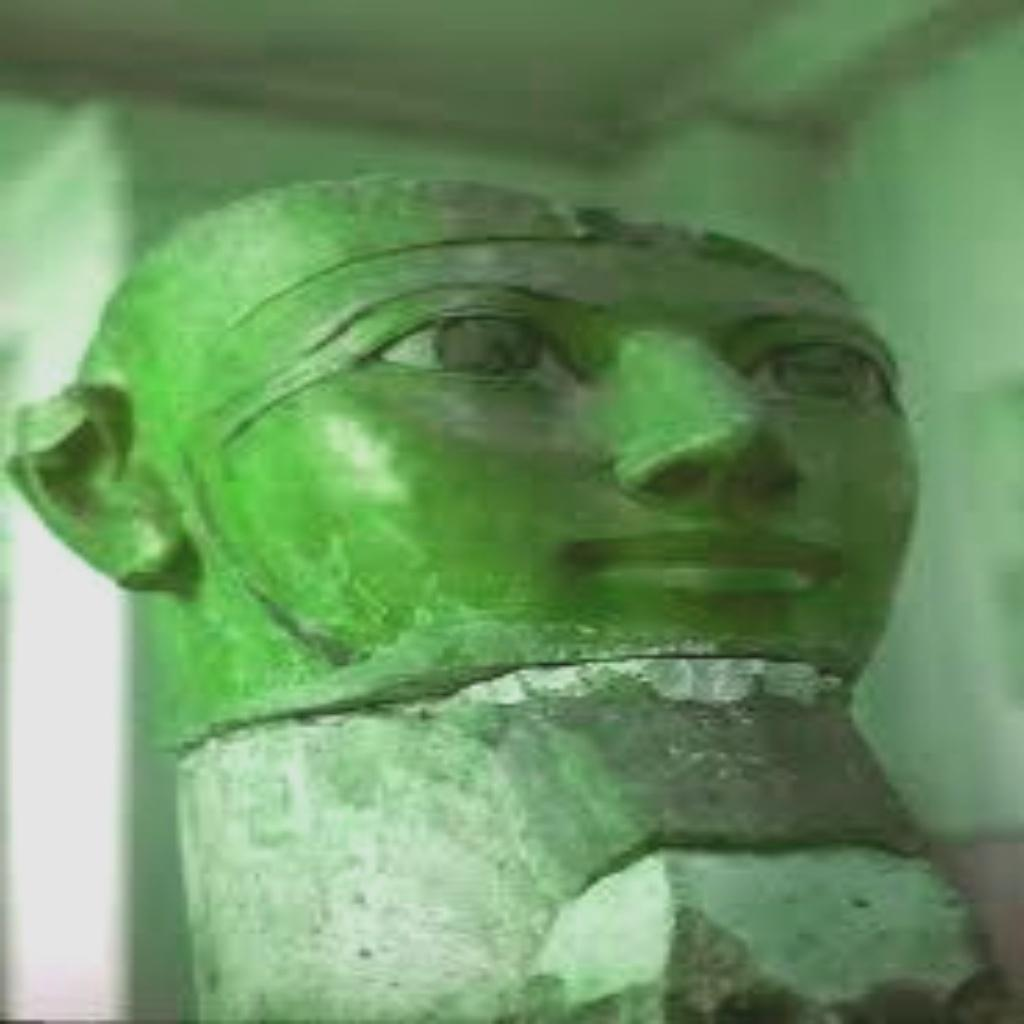Hatshepsut face: (12, 169, 1018, 1024)
